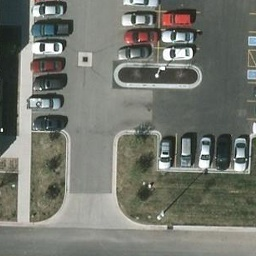car: (158, 29, 196, 45), (158, 134, 174, 168), (177, 133, 193, 167), (196, 134, 212, 168), (216, 136, 232, 170), (233, 138, 249, 172), (162, 45, 194, 61), (117, 45, 147, 60), (126, 27, 156, 42), (123, 11, 153, 26), (161, 12, 191, 27), (31, 4, 65, 17), (31, 23, 71, 34), (32, 41, 62, 55), (31, 58, 61, 72), (32, 75, 62, 89), (29, 96, 59, 110), (33, 115, 63, 129), (119, 1, 160, 5)
